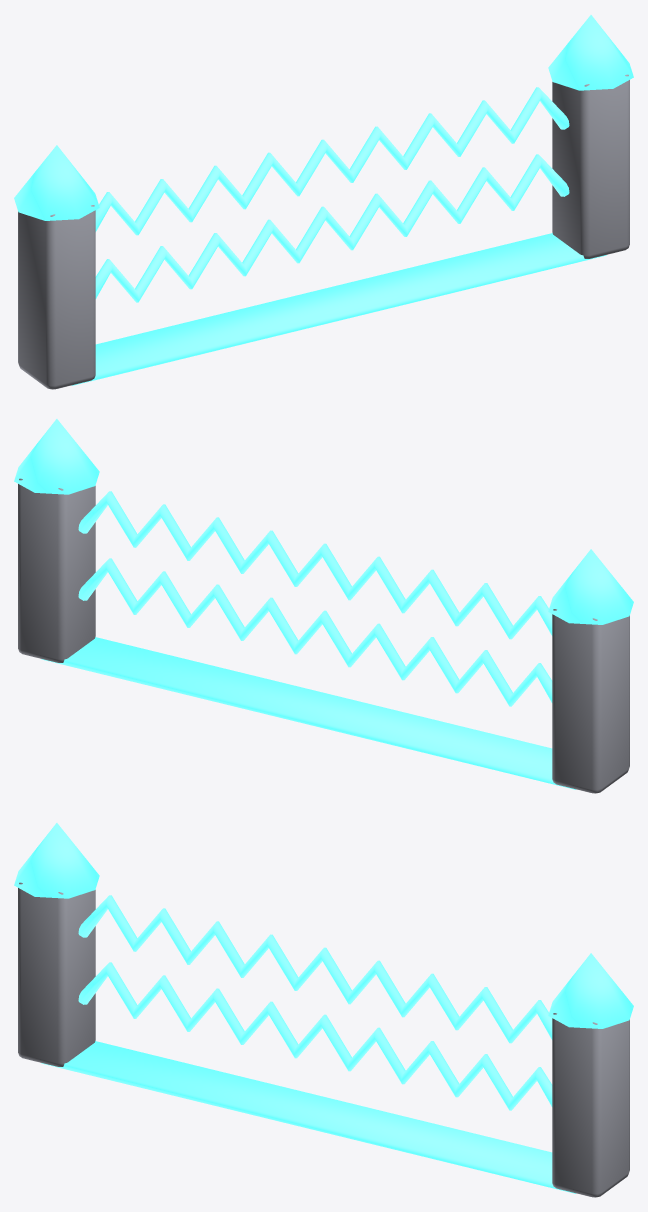
Rendered from blue_electric_barrier_optional.glb.
3 views of the same model, one above another, from view 1: azimuth 30°, elevation 25°; view 2: azimuth 150°, elevation 25°; view 3: azimuth 330°, elevation 25° (orthographic).
Parts seen in each view (by area): view 1: blue_electric_barrier_optional_Mesh; view 2: blue_electric_barrier_optional_Mesh; view 3: blue_electric_barrier_optional_Mesh.
Part boxes in pixels (x1=…): blue_electric_barrier_optional_Mesh: x1=14, y1=15, x2=633, y2=389; blue_electric_barrier_optional_Mesh: x1=14, y1=419, x2=633, y2=793; blue_electric_barrier_optional_Mesh: x1=14, y1=823, x2=633, y2=1197.
Bounding box in the file's own units: 2.86 × 1.03 × 0.36.
